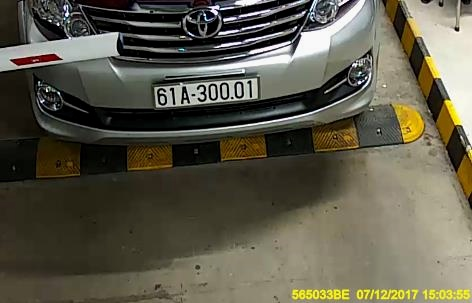plate: (152, 73, 263, 109)
